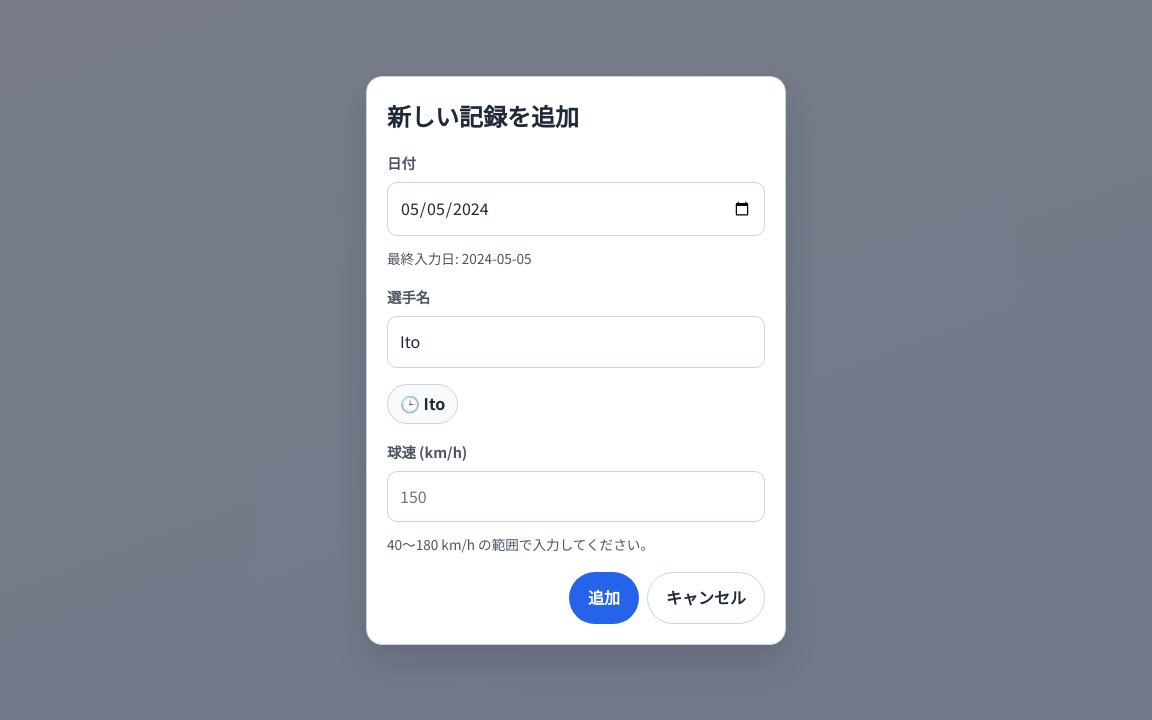
it: remembers last entry and suggests previous names
The width and height of the screenshot is (1152, 720).
Expected: the text "最終入力日: 2024-05-05" is shown, left=387, top=248, right=532, bottom=268
Clear the field labelled "選手名" at (576, 342), box left=387, top=316, right=765, bottom=368
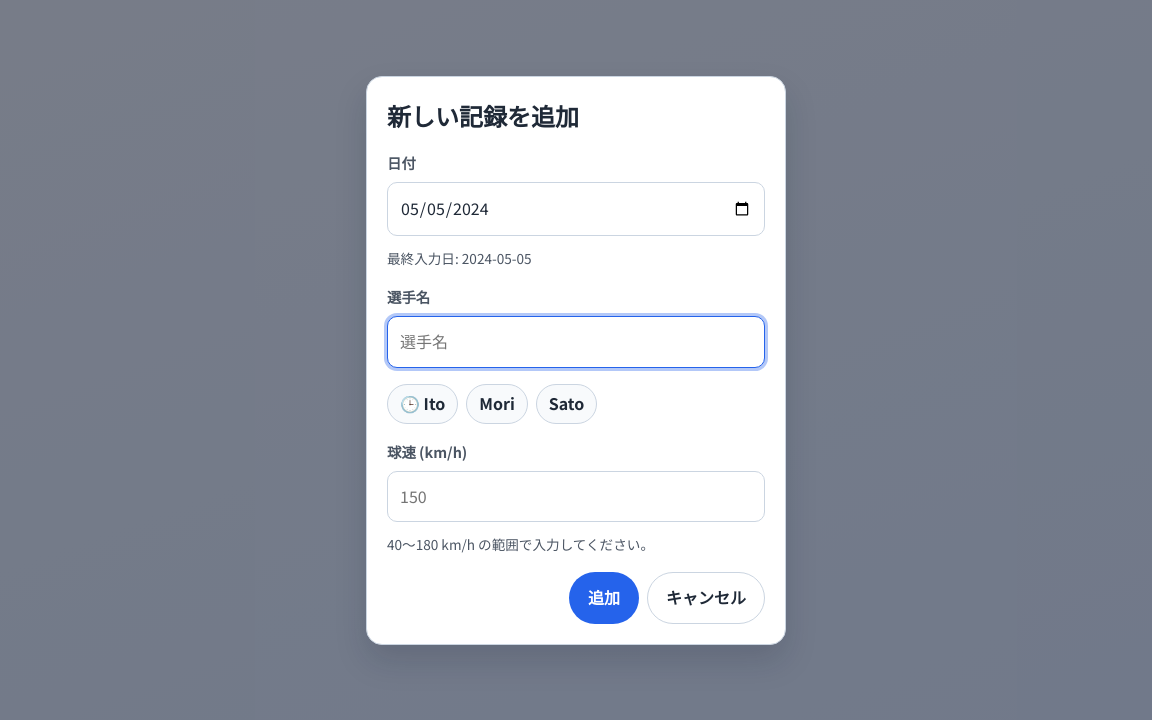
Click the option "Sato" at (566, 404), box left=536, top=384, right=597, bottom=424
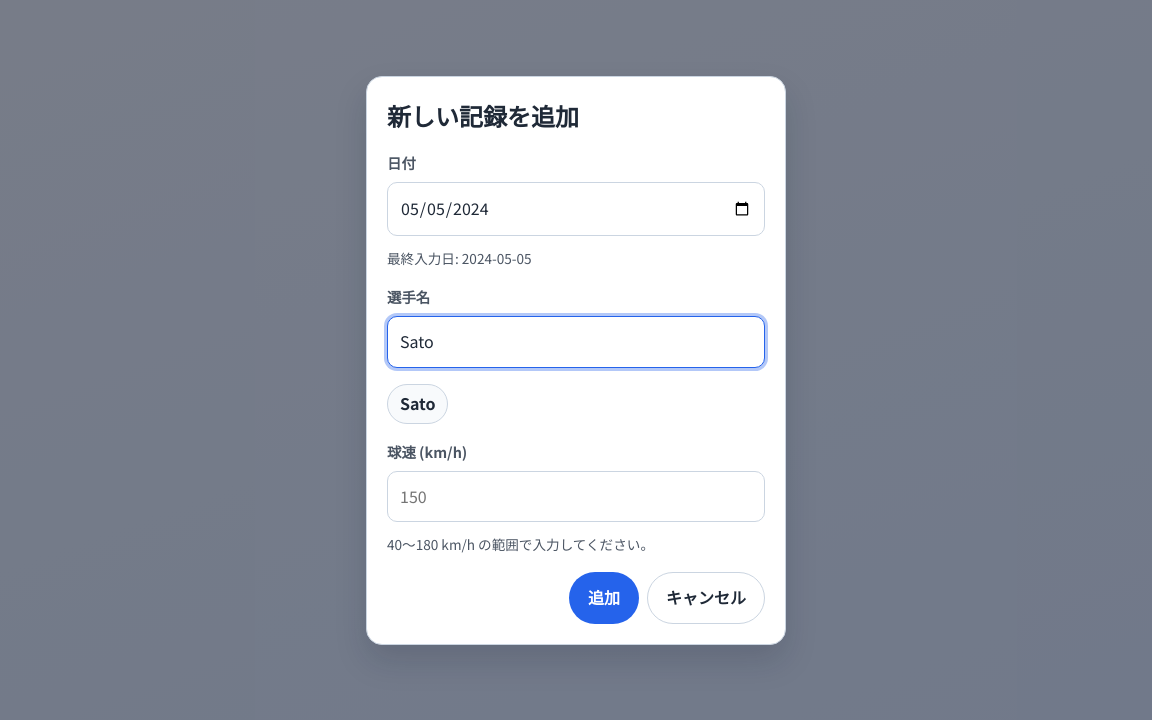
Result: the field labelled "選手名" holds "Sato" at left=387, top=316, right=765, bottom=368
